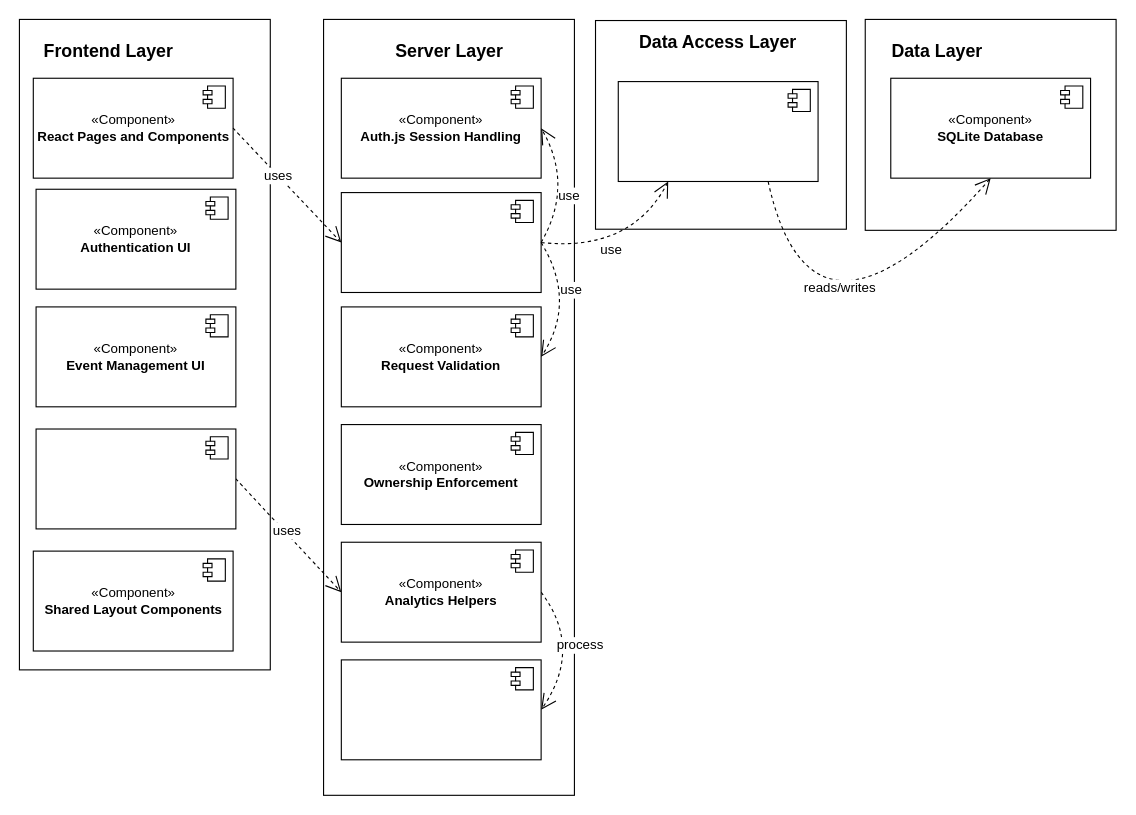
Image size: 1136x815. Some labels were removed from this diagram. Each missing label, with the centre of its shape:
"«Component» Analytics UI" goes at (x=135, y=478).
"«Component» Next.js API Route Handlers" goes at (x=440, y=241).
"«Component» Prisma ORM" goes at (x=717, y=130).
"«Component» Serialization" goes at (x=440, y=709).
